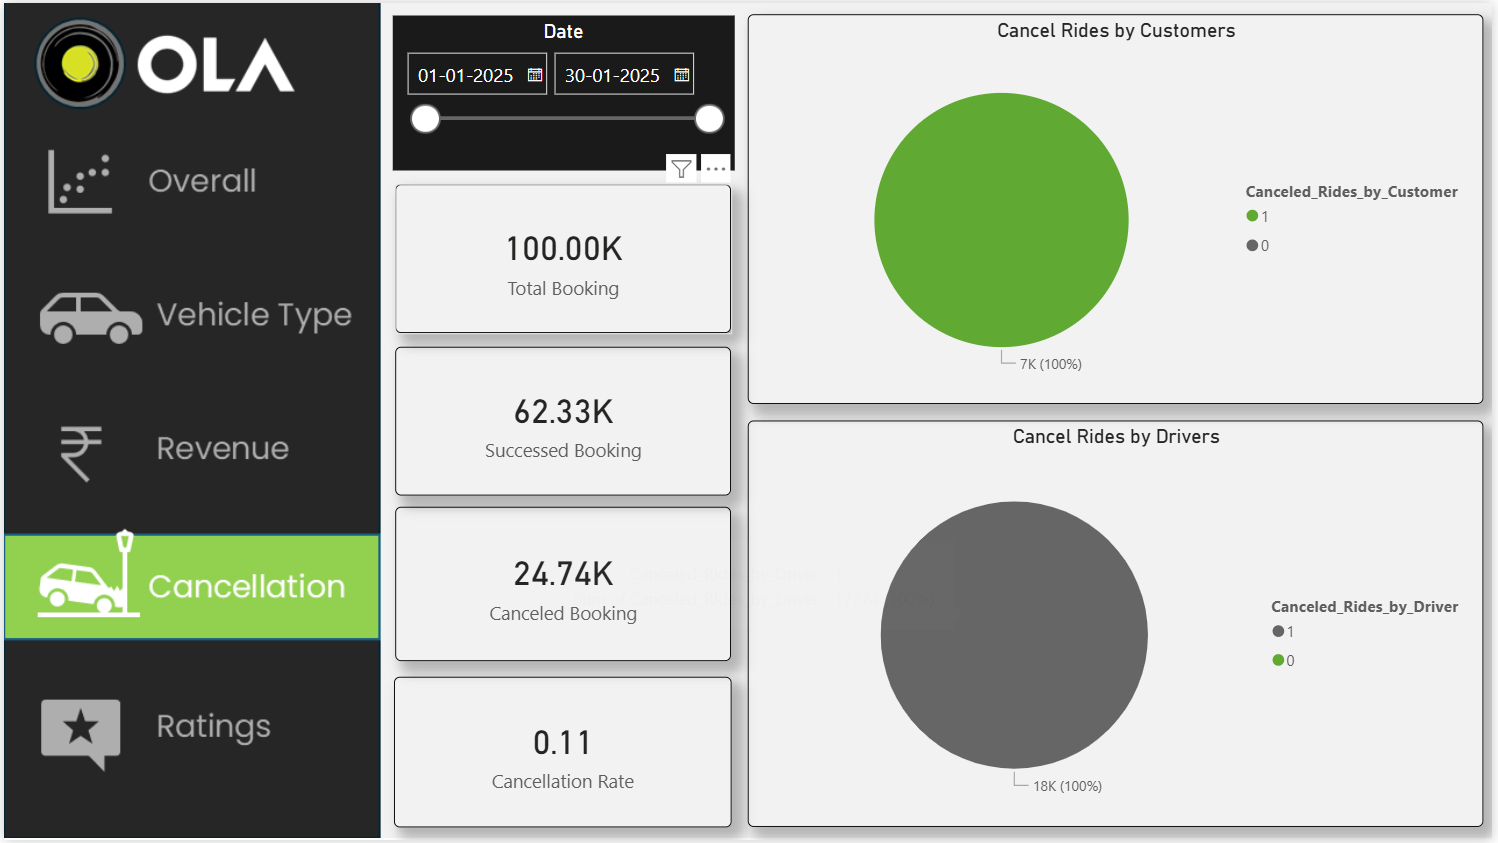

The page's visual inventory and layout, read from the dashboard file:
{"tool":"powerbi","page":{"name":"Cancellation","canvas":[1280,720],"ordinal":3},"visuals":[{"type":"textbox","box":[0,112.5,323.8,87.8],"z":0},{"type":"textbox","box":[0,580.4,323.8,87.8],"z":1000},{"type":"textbox","box":[0,344.4,323.8,87.8],"z":2000},{"type":"textbox","box":[0,229.2,323.8,87.8],"z":3000},{"type":"pieChart","title":"Cancel Rides by Customers","fields":{"Category":["Ride_Data.Canceled_Rides_by_Customer"],"Y":["Sum(Ride_Data.Canceled_Rides_by_Customer)"]},"box":[639.5,9.6,632.6,334.8],"z":3001},{"type":"pieChart","title":"Cancel Rides by Drivers","fields":{"Category":["Ride_Data.Canceled_Rides_by_Driver"],"Y":["Sum(Ride_Data.Canceled_Rides_by_Driver)"]},"box":[639.5,359.5,632.6,349.9],"z":3002},{"type":"slicer","title":"Date","fields":{"Values":["Ride_Data.Date"]},"box":[334,10.8,293.8,133],"z":3003},{"type":"card","title":"Booking Status Breakdown","fields":{"Values":["CountNonNull(Ride_Data.Booking_ID)"]},"box":[337.1,156.2,289.2,128.3],"z":3004},{"type":"card","title":"Booking Status Breakdown","fields":{"Values":["CountNonNull(Ride_Data.Booking_ID)"]},"box":[337.1,295.3,289.2,128.3],"z":3005},{"type":"card","title":"Booking Status Breakdown","fields":{"Values":["CountNonNull(Ride_Data.Booking_ID)"]},"box":[337.1,433,289.2,133],"z":3006},{"type":"card","title":"Booking Status Breakdown","fields":{"Values":["Ride_Data.Canceled Percentage"]},"box":[335.5,579.9,290.7,129.9],"z":3007}]}

Visuals, with their boxes in screenshot pixels (x1, y1, x2, y2), scaled from the page's 1280x720 canvas onto the 1498x843 screenshot:
textbox: (x1=0, y1=132, x2=379, y2=235)
textbox: (x1=0, y1=680, x2=379, y2=782)
textbox: (x1=0, y1=403, x2=379, y2=506)
textbox: (x1=0, y1=268, x2=379, y2=371)
"Cancel Rides by Customers" pieChart: (x1=748, y1=11, x2=1489, y2=403)
"Cancel Rides by Drivers" pieChart: (x1=748, y1=421, x2=1489, y2=831)
"Date" slicer: (x1=391, y1=13, x2=735, y2=168)
"Booking Status Breakdown" card: (x1=395, y1=183, x2=733, y2=333)
"Booking Status Breakdown" card: (x1=395, y1=346, x2=733, y2=496)
"Booking Status Breakdown" card: (x1=395, y1=507, x2=733, y2=663)
"Booking Status Breakdown" card: (x1=393, y1=679, x2=733, y2=831)
